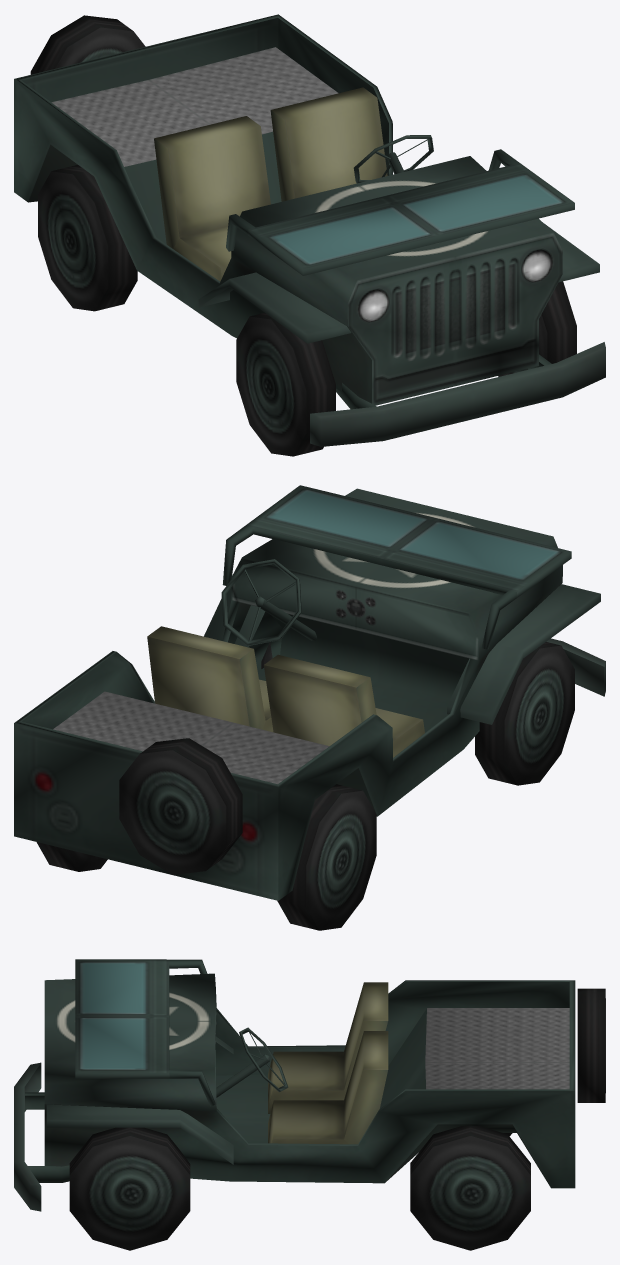
File: jeep-1.obj
The picture shows the model from 3 angles, top to bottom: view 1: azimuth 30°, elevation 25°; view 2: azimuth 150°, elevation 25°; view 3: azimuth 270°, elevation 25°; orthographic projection. The views are drawn at different scales.
Parts seen in each view (by area): view 1: polySurface157; view 2: polySurface157; view 3: polySurface157.
Part boxes in pixels (left/top/right/bottom): polySurface157: left=14, top=14, right=605, bottom=456; polySurface157: left=14, top=485, right=605, bottom=930; polySurface157: left=14, top=959, right=605, bottom=1250.
Size of the model in its own units: 2.1 by 1.51 by 4.25.
1 material, 1 textured.
